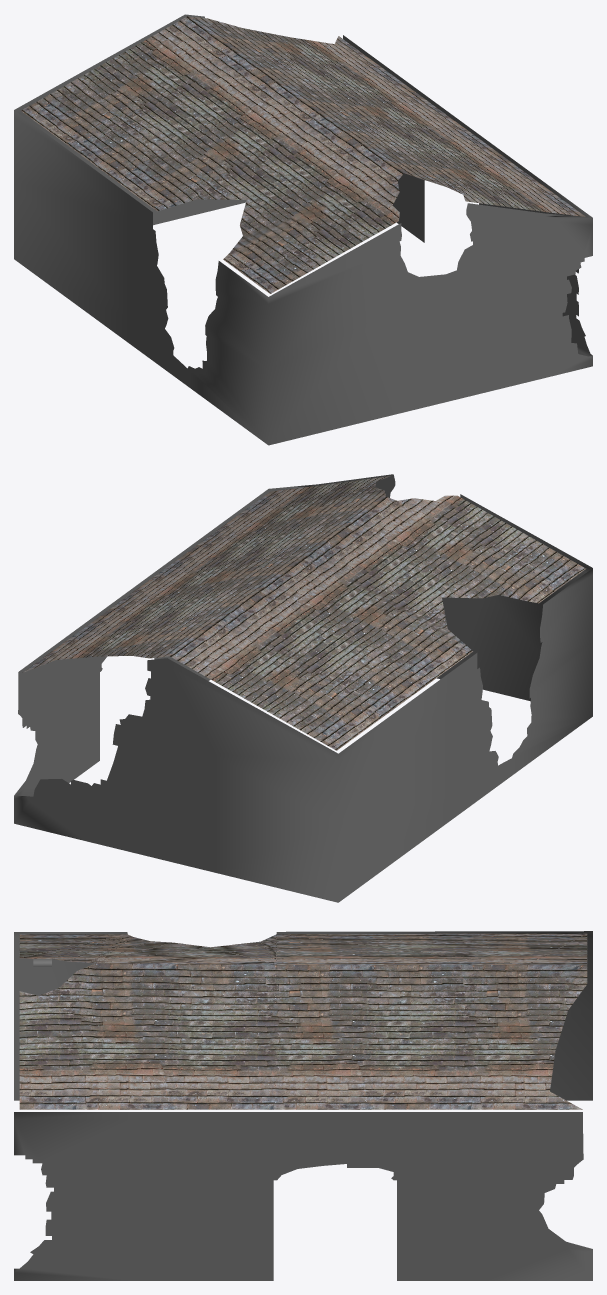
The model's file is Ruin2_lod02.fbx.
The picture shows the model from 3 angles, top to bottom: view 1: azimuth 30°, elevation 25°; view 2: azimuth 150°, elevation 25°; view 3: azimuth 270°, elevation 25°; orthographic projection. The views are drawn at different scales.
Parts seen in each view (by area): view 1: Default_Layer; view 2: Default_Layer; view 3: Default_Layer.
Boxes of the visible parts, left/top/right/bottom form: Default_Layer: left=14, top=14, right=592, bottom=445; Default_Layer: left=14, top=474, right=592, bottom=902; Default_Layer: left=14, top=931, right=592, bottom=1280.
Size of the model in its own units: 1275 by 767 by 1732.
